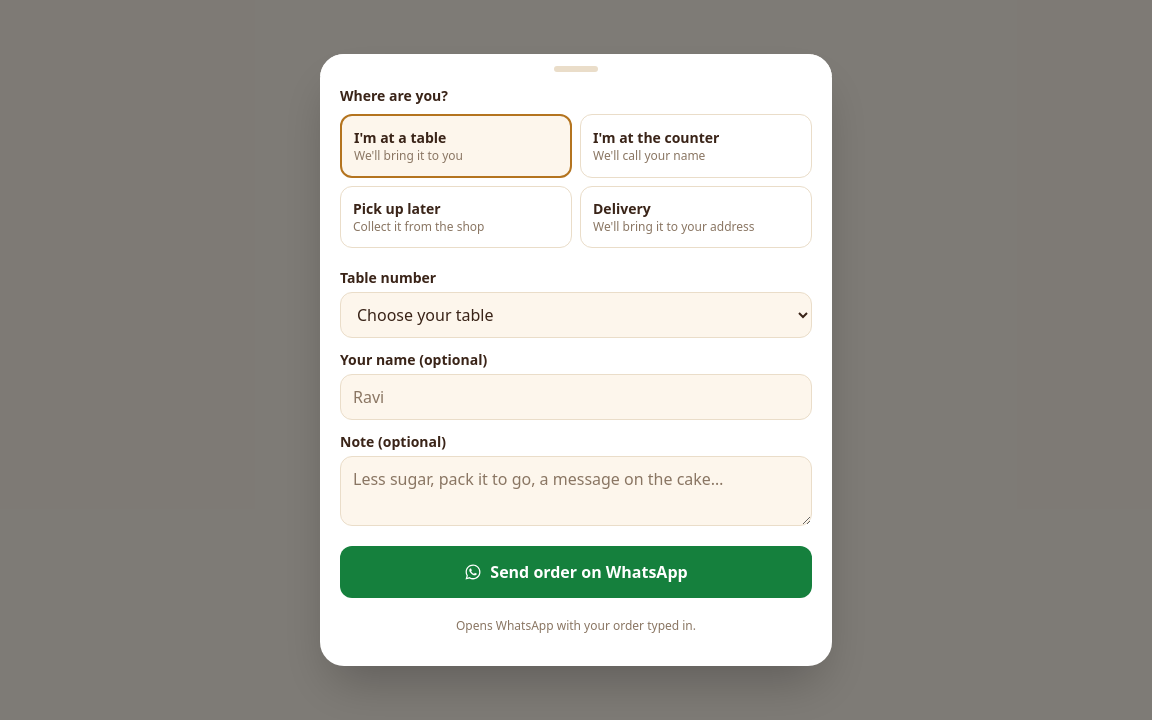
Test: where the customer is › asks for a table number for a table order, with the name optional and no phone
(page scrolled)
Expected: the field labelled "Your name (optional)" is shown, [340, 374, 812, 420]
Click the button "Send order on WhatsApp": (576,572) [340, 546, 812, 598]
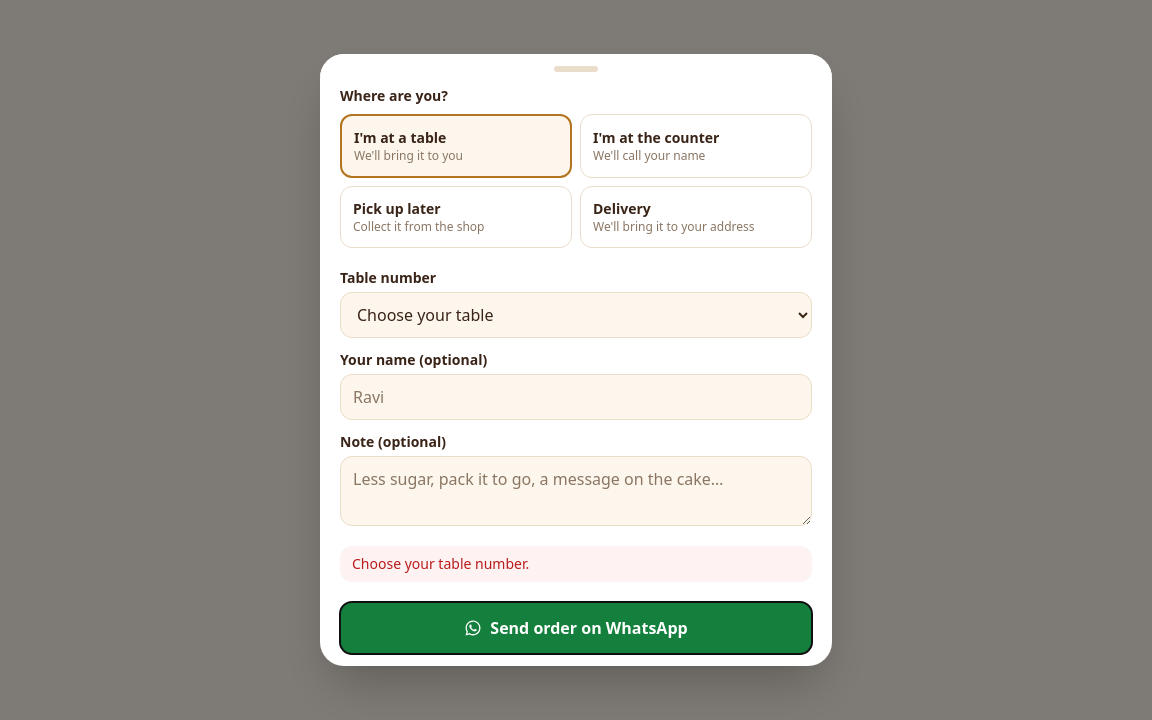
Result: the message reads "Choose your table number." at [352, 554, 529, 573]
Select "Table 3" in the dropdown labelled "Table number": (576,315) [340, 292, 812, 338]
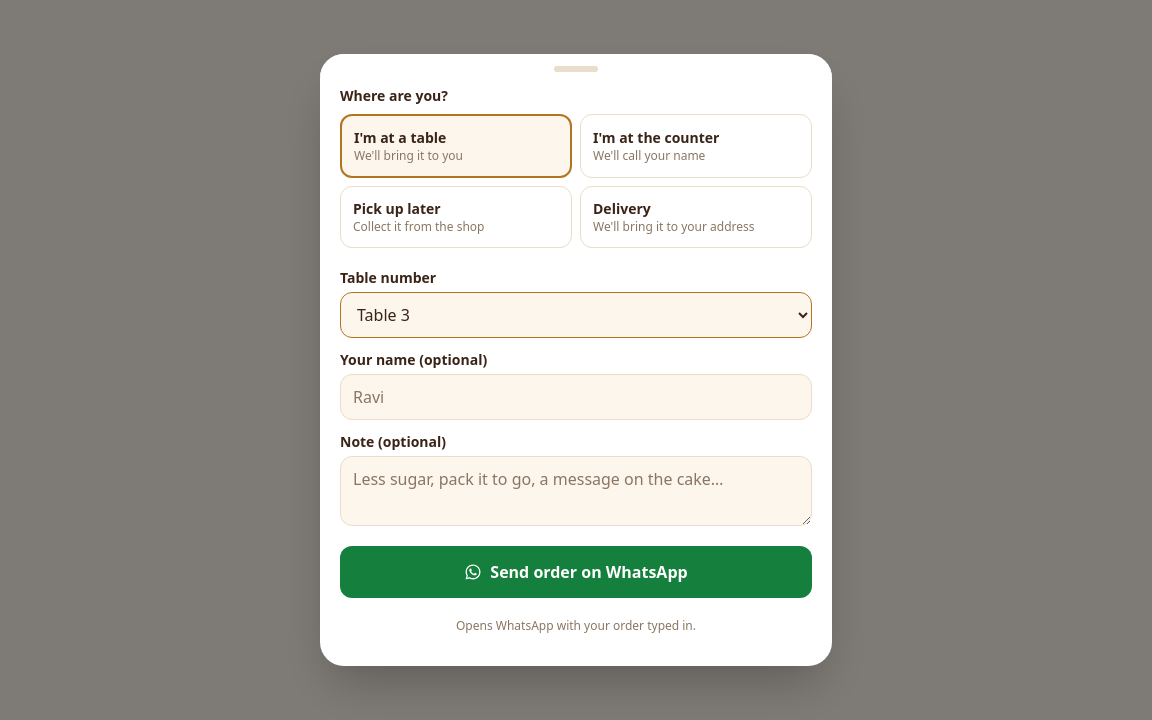
Result: the message "Choose your table number." is gone
